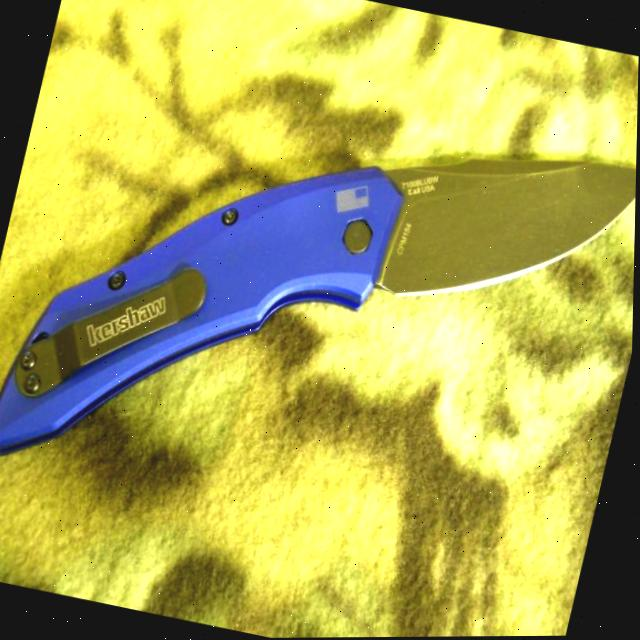pocket-knife: (0, 41, 639, 569)
